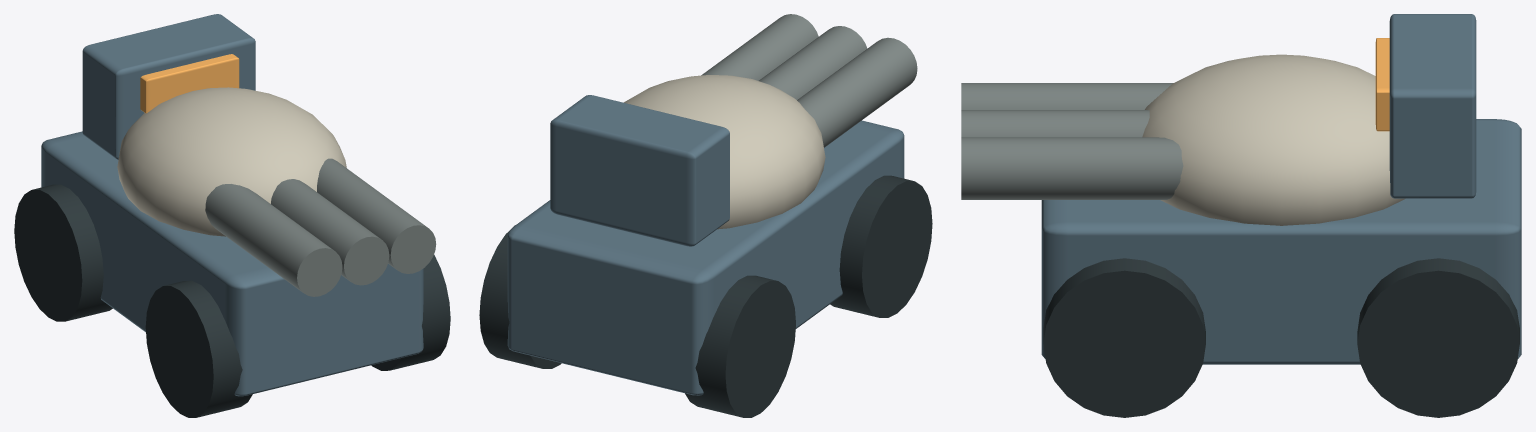
Rendered from warden-machine-rail-sentry-v1.glb.
3 renders of one model, left to right at view 1: azimuth 30°, elevation 25°; view 2: azimuth 150°, elevation 25°; view 3: azimuth 270°, elevation 25°, orthographic. The views are drawn at different scales.
Visible parts, largest first — view 1: Hull paint / Plate (×2), Dark metal / Cylinder (×3), Trim / Housing, Steel / Cylinder (×3), Optics / Plate; view 2: Hull paint / Plate (×2), Dark metal / Cylinder (×3), Trim / Housing, Steel / Cylinder (×3); view 3: Hull paint / Plate (×2), Dark metal / Cylinder (×2), Trim / Housing, Steel / Cylinder (×3), Optics / Plate.
Boxes of the visible parts, x1,y1,x2,y2 form: Hull paint / Plate (×2): (41, 14, 423, 396); Dark metal / Cylinder (×3): (14, 184, 450, 417); Trim / Housing: (117, 87, 346, 236); Steel / Cylinder (×3): (205, 158, 436, 296); Optics / Plate: (140, 54, 239, 113); Hull paint / Plate (×2): (507, 95, 904, 395); Dark metal / Cylinder (×3): (479, 175, 932, 417); Trim / Housing: (624, 75, 825, 229); Steel / Cylinder (×3): (701, 14, 917, 147); Hull paint / Plate (×2): (1041, 14, 1521, 364); Dark metal / Cylinder (×2): (1043, 258, 1519, 417); Trim / Housing: (1142, 54, 1405, 225); Steel / Cylinder (×3): (961, 83, 1183, 199); Optics / Plate: (1375, 38, 1389, 131).
Bounding box in the file's own units: 0.1248 × 0.1251 × 0.214.
